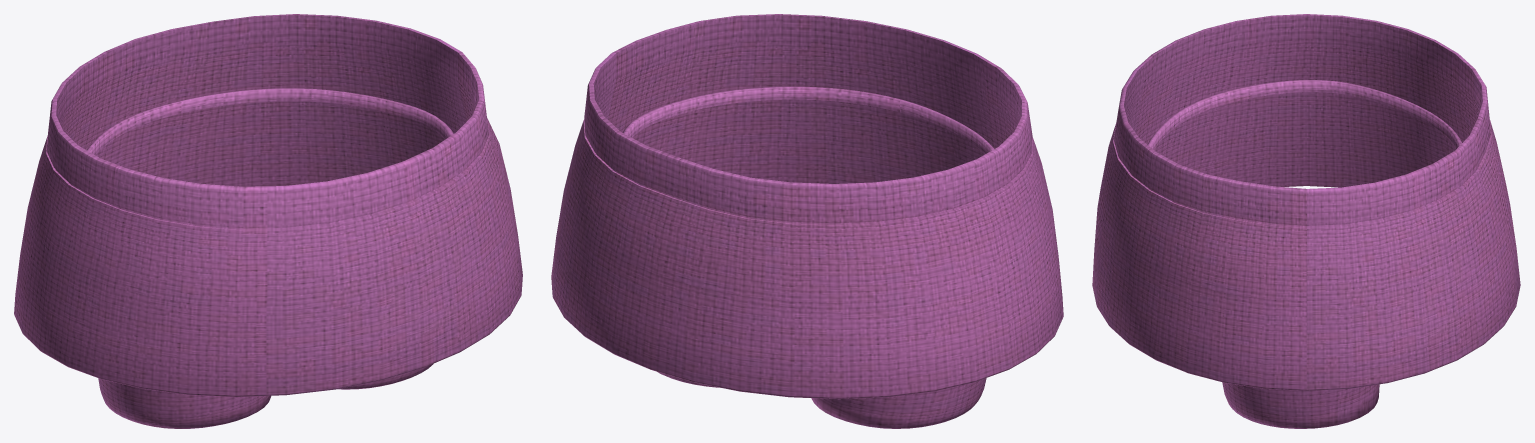
The model's file is hb_HYERIN_skirt.gltf.
3 renders of one model, left to right at view 1: azimuth 30°, elevation 25°; view 2: azimuth 150°, elevation 25°; view 3: azimuth 270°, elevation 25°, orthographic. The views are drawn at different scales.
Visible parts, largest first — view 1: Tube.1, DANIEL_HB.1; view 2: Tube.1, DANIEL_HB.1; view 3: Tube.1, DANIEL_HB.1.
Part boxes in pixels (bbox=[...]): Tube.1: bbox=[14, 14, 522, 396]; DANIEL_HB.1: bbox=[87, 88, 453, 428]; Tube.1: bbox=[551, 14, 1063, 399]; DANIEL_HB.1: bbox=[622, 86, 994, 428]; Tube.1: bbox=[1092, 14, 1520, 390]; DANIEL_HB.1: bbox=[1147, 80, 1461, 428].
Bounding box in the file's own units: 0.039 × 0.0225 × 0.0339.
1 material, 1 textured.
